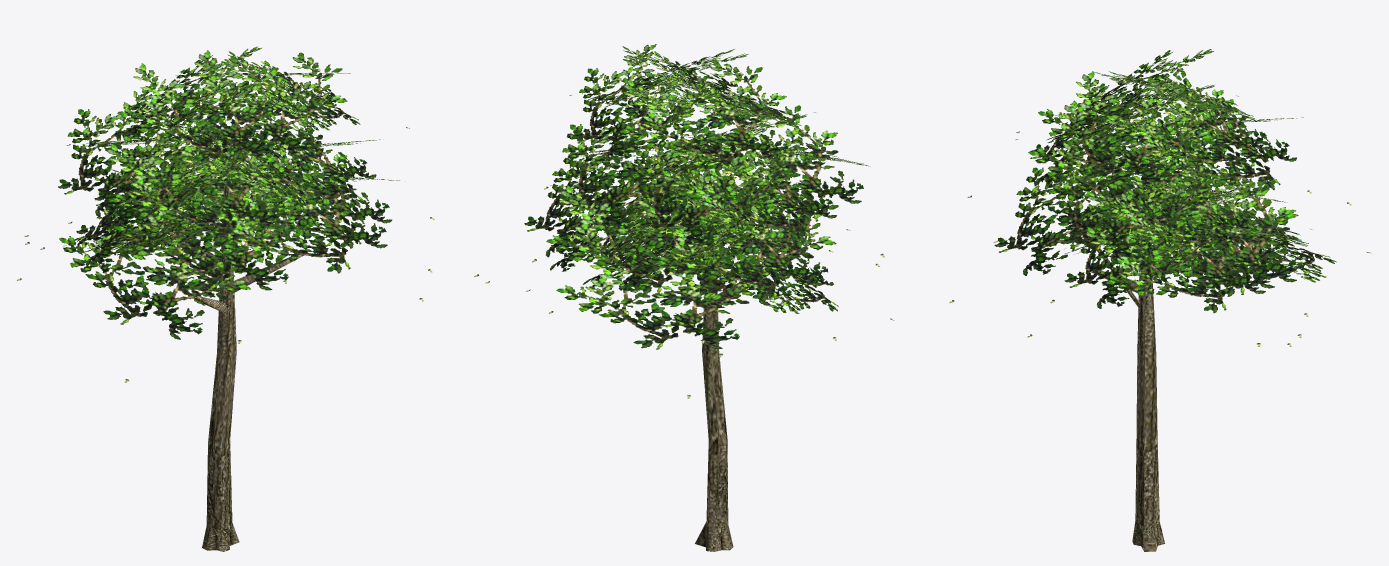
File: tree_tropic_0.glb
The picture shows the model from 3 angles, left to right: view 1: azimuth 30°, elevation 25°; view 2: azimuth 150°, elevation 25°; view 3: azimuth 270°, elevation 25°; orthographic projection.
Parts seen in each view (by area): view 1: tree_tropic_0; view 2: tree_tropic_0; view 3: tree_tropic_0.
Part boxes in pixels (left/top/right/bottom): tree_tropic_0: left=17, top=46, right=434, bottom=551; tree_tropic_0: left=474, top=44, right=894, bottom=551; tree_tropic_0: left=949, top=49, right=1371, bottom=551.
Size of the model in its own units: 8.83 by 11.22 by 9.13.
Materials: 2 (2 with a texture image).
